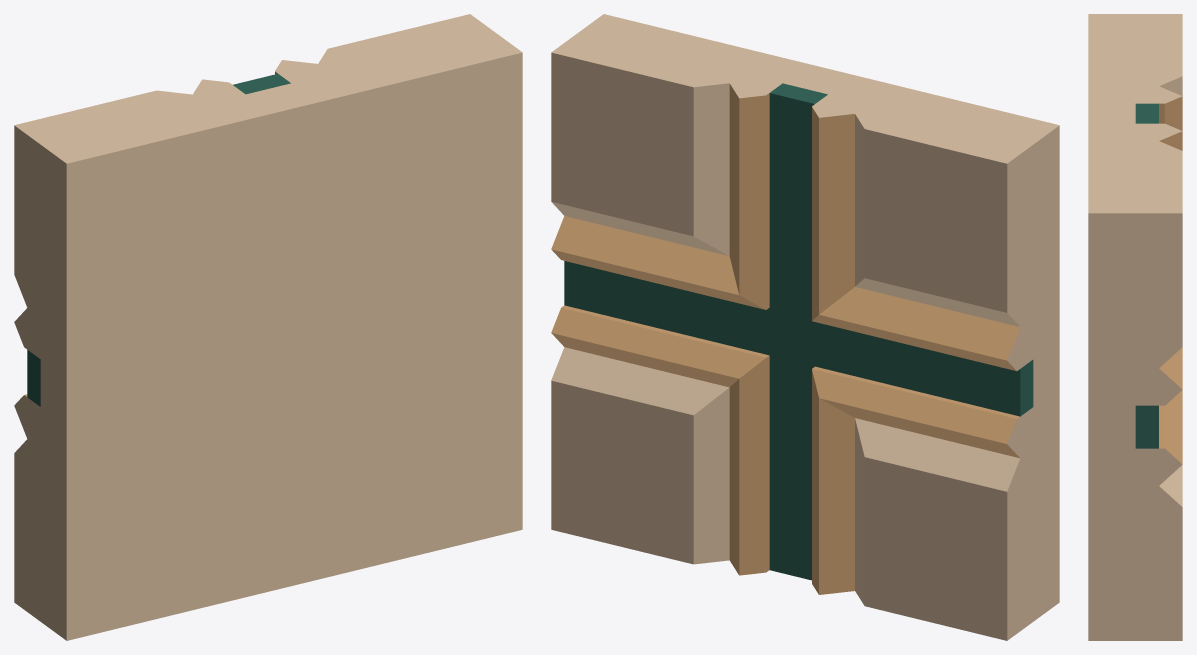
The model's file is Puzzle_Wall_Conduit_Path_Cross.fbx.
3 views of the same model, side by side, from view 1: azimuth 30°, elevation 25°; view 2: azimuth 150°, elevation 25°; view 3: azimuth 270°, elevation 25° (orthographic). The views are drawn at different scales.
Parts seen in each view (by area): view 1: Sandstone_Trim.Sandstone_Trim.Sandstone_Trim.Sandstone_Trim., object1; view 2: Sandstone_Trim.Sandstone_Trim.Sandstone_Trim.Sandstone_Trim., Sandstone_5.Sandstone_5.Sandstone_5.Sandstone_5.Sandstone_5., object1; view 3: Sandstone_Trim.Sandstone_Trim.Sandstone_Trim.Sandstone_Trim., Sandstone_5.Sandstone_5.Sandstone_5.Sandstone_5.Sandstone_5., object1.
Part boxes in pixels (bbox=[...]): Sandstone_Trim.Sandstone_Trim.Sandstone_Trim.Sandstone_Trim.: bbox=[14, 14, 522, 640]; object1: bbox=[27, 74, 290, 406]; Sandstone_Trim.Sandstone_Trim.Sandstone_Trim.Sandstone_Trim.: bbox=[551, 14, 1059, 640]; Sandstone_5.Sandstone_5.Sandstone_5.Sandstone_5.Sandstone_5.: bbox=[551, 84, 1020, 594]; object1: bbox=[564, 83, 1033, 580]; Sandstone_Trim.Sandstone_Trim.Sandstone_Trim.Sandstone_Trim.: bbox=[1088, 14, 1182, 640]; Sandstone_5.Sandstone_5.Sandstone_5.Sandstone_5.Sandstone_5.: bbox=[1159, 96, 1182, 463]; object1: bbox=[1135, 103, 1158, 448].
Bounding box in the file's own units: 1 × 1 × 0.2.
